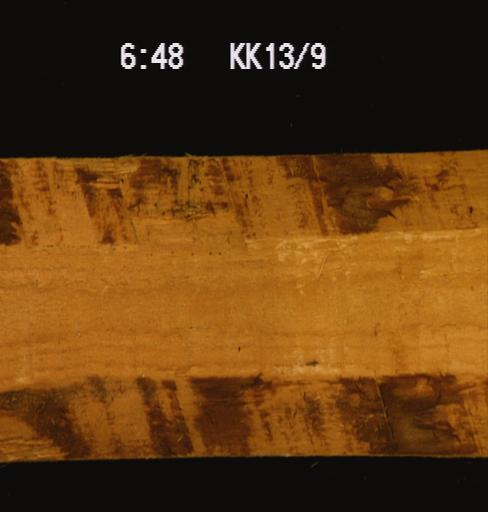wave: (0, 149, 485, 243), (0, 371, 485, 459)
